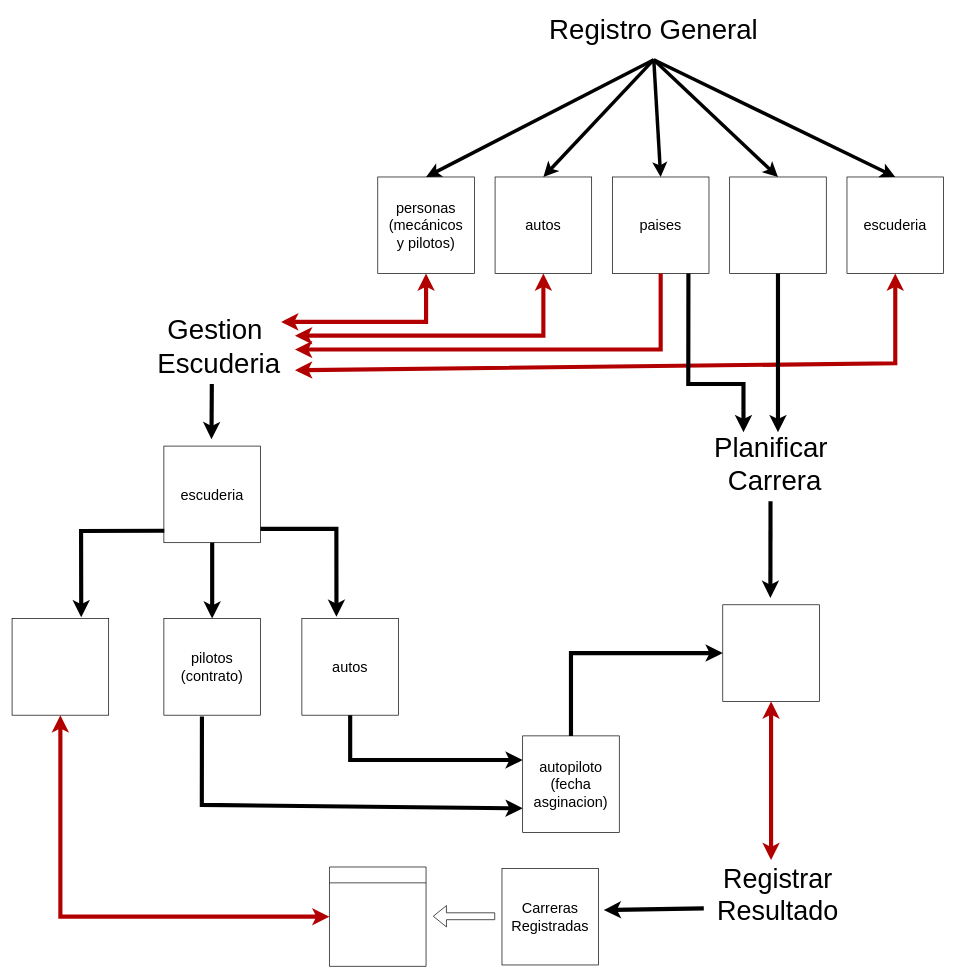
The diagram is 956 pixels wide and 978 high, and some of its shapes have lost their labels. The shapes that lost their labels are listed below. From the top down, each one's centre as x and y in pixels, then its label:
At point (777, 225): "circuitos".
At point (60, 666): "mecánicos".
At point (770, 652): "Carrera".
At point (377, 916): "Informes".
